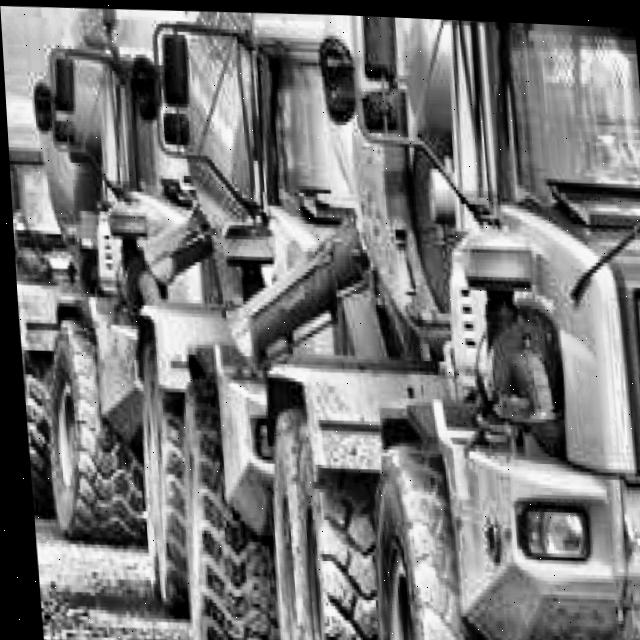dump_truck: (247, 9, 640, 640)
